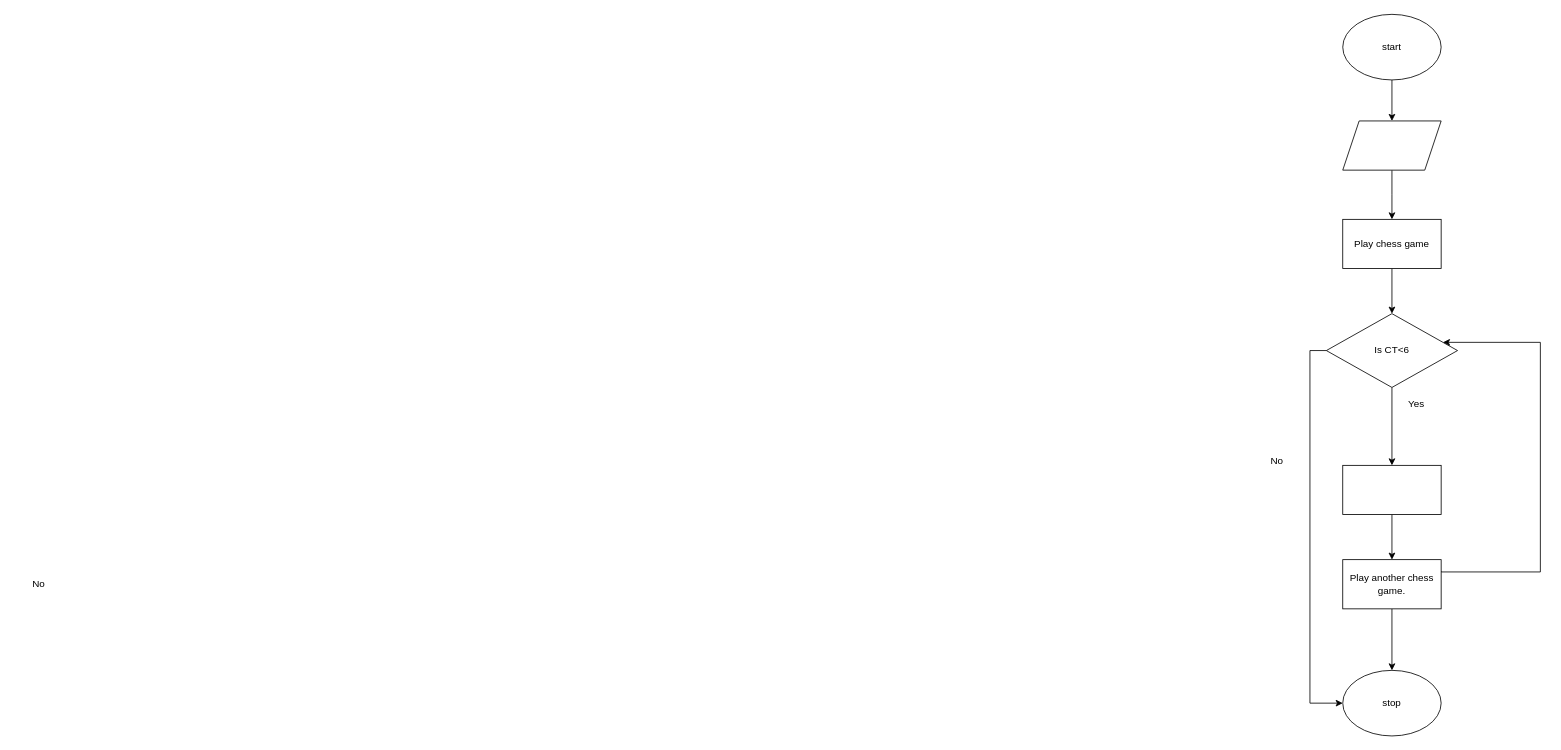
Some shapes in this 1561 by 750 pixel diagram are drawn without their labels. Here are the shapes that lost their labels. From the top down, the centre of each, then its label:
At (1391,145): "CT=1".
At (1391,490): "CT = CT+1".
